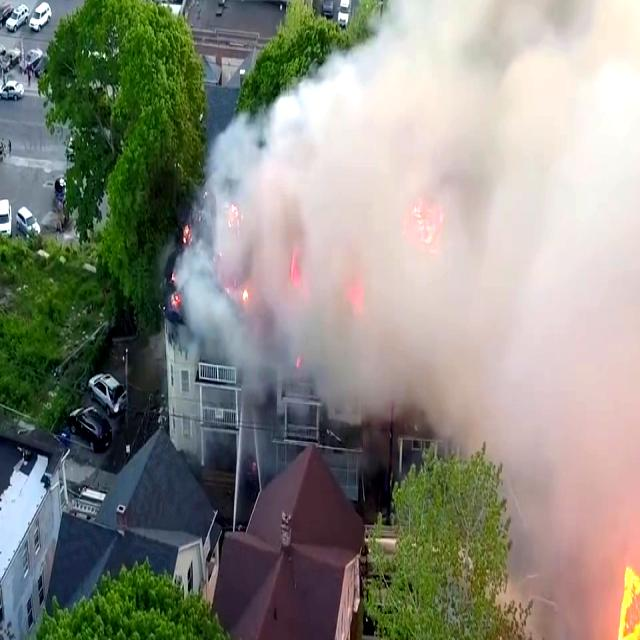smoke: (292, 77, 640, 420)
